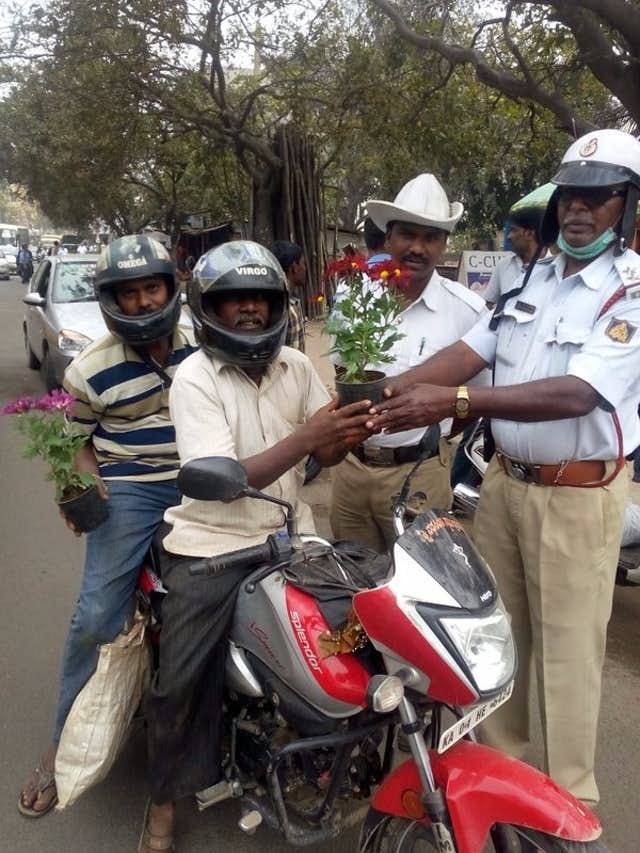helmet: (190, 245, 295, 367), (99, 228, 184, 341)
